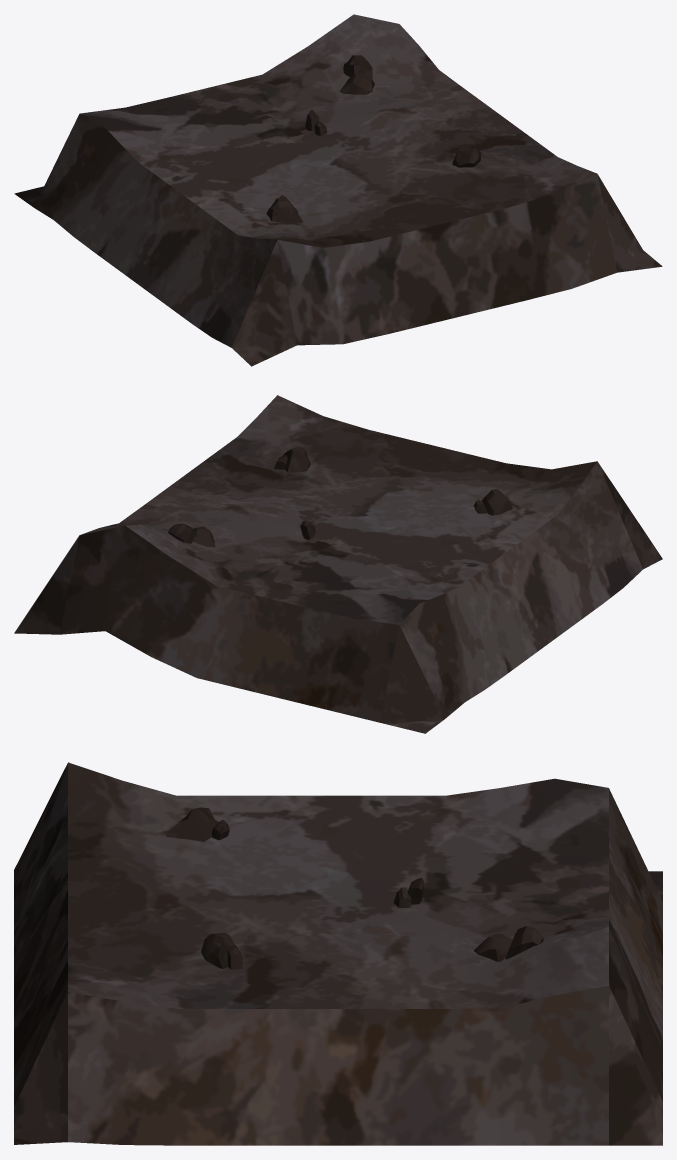
The model's file is Ground.fbx.
3 renders of one model, top to bottom at view 1: azimuth 30°, elevation 25°; view 2: azimuth 150°, elevation 25°; view 3: azimuth 270°, elevation 25°, orthographic. The views are drawn at different scales.
Parts seen in each view (by area): view 1: Plane; view 2: Plane; view 3: Plane.
Part boxes in pixels (x1,y1,x2,y2): Plane: (14, 14, 662, 366); Plane: (14, 395, 662, 733); Plane: (14, 762, 662, 1145).
Size of the model in its own units: 4520 by 1215 by 4520.
